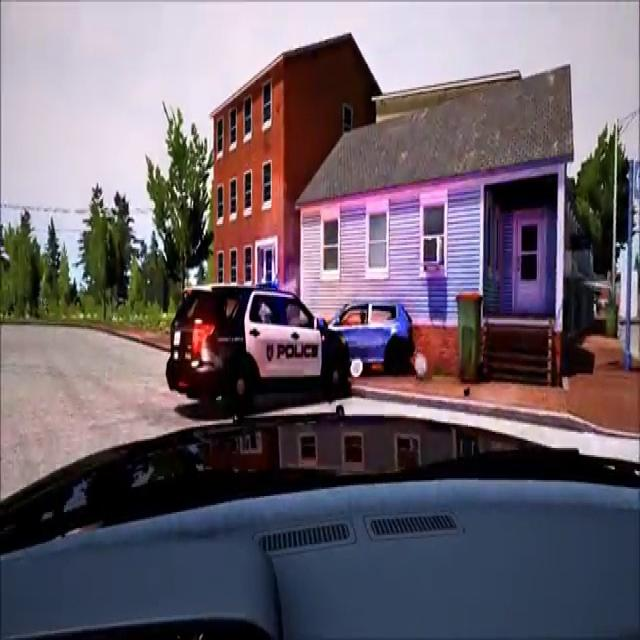moderate: (158, 273, 416, 417)
